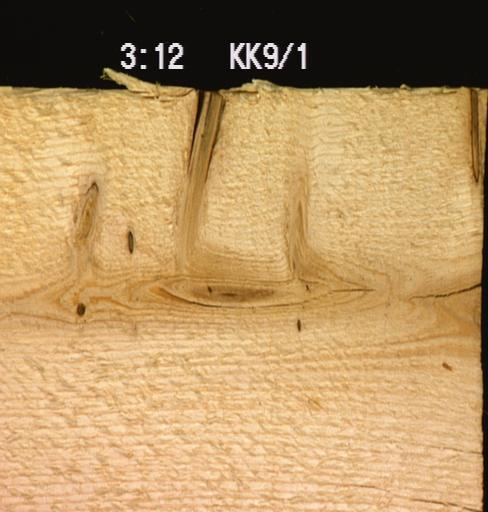dry_knot: (168, 89, 224, 259), (467, 87, 479, 183), (74, 300, 86, 318)
split: (406, 280, 479, 300), (324, 285, 377, 294)
